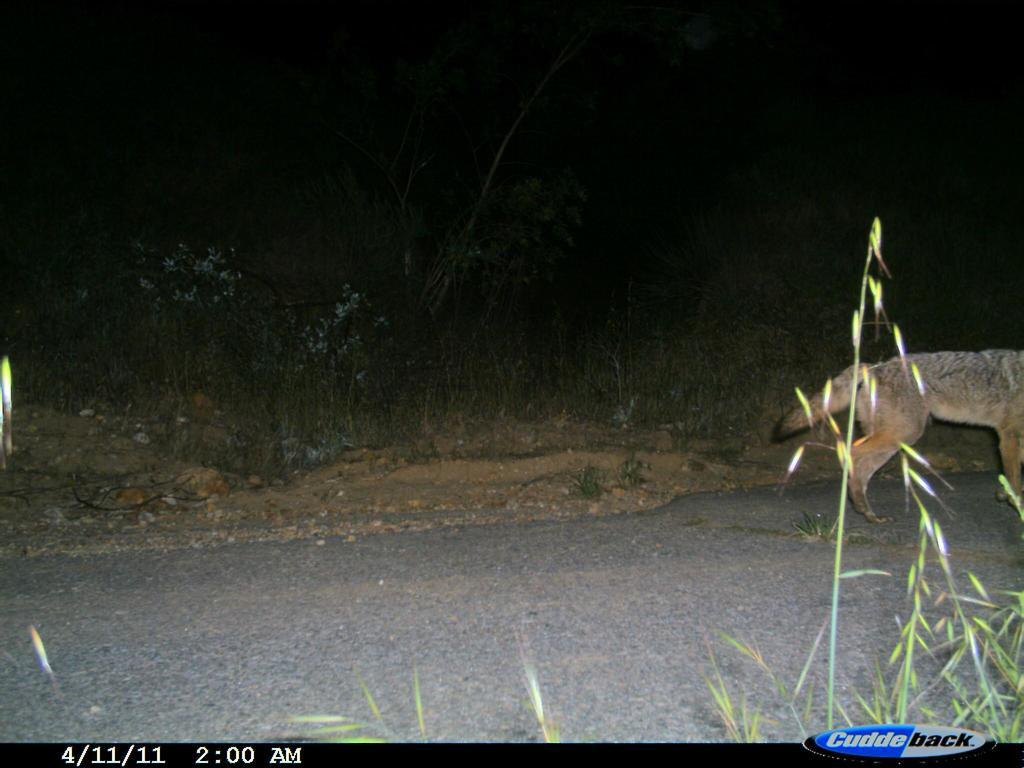coyote: (758, 331, 1022, 537)
